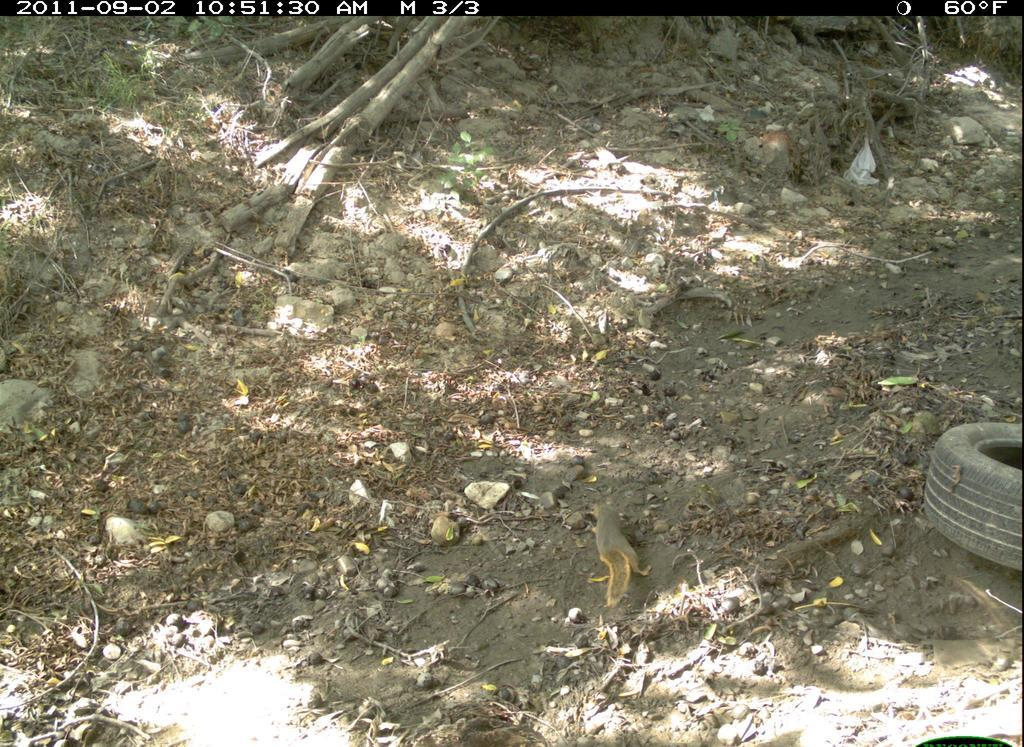squirrel: (580, 493, 657, 613)
